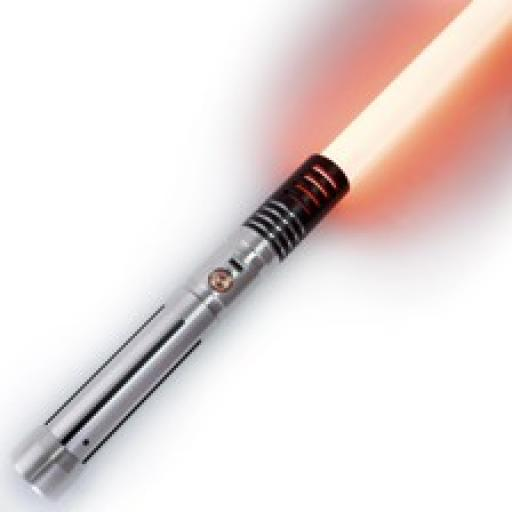lightsaber: (8, 2, 512, 502)
